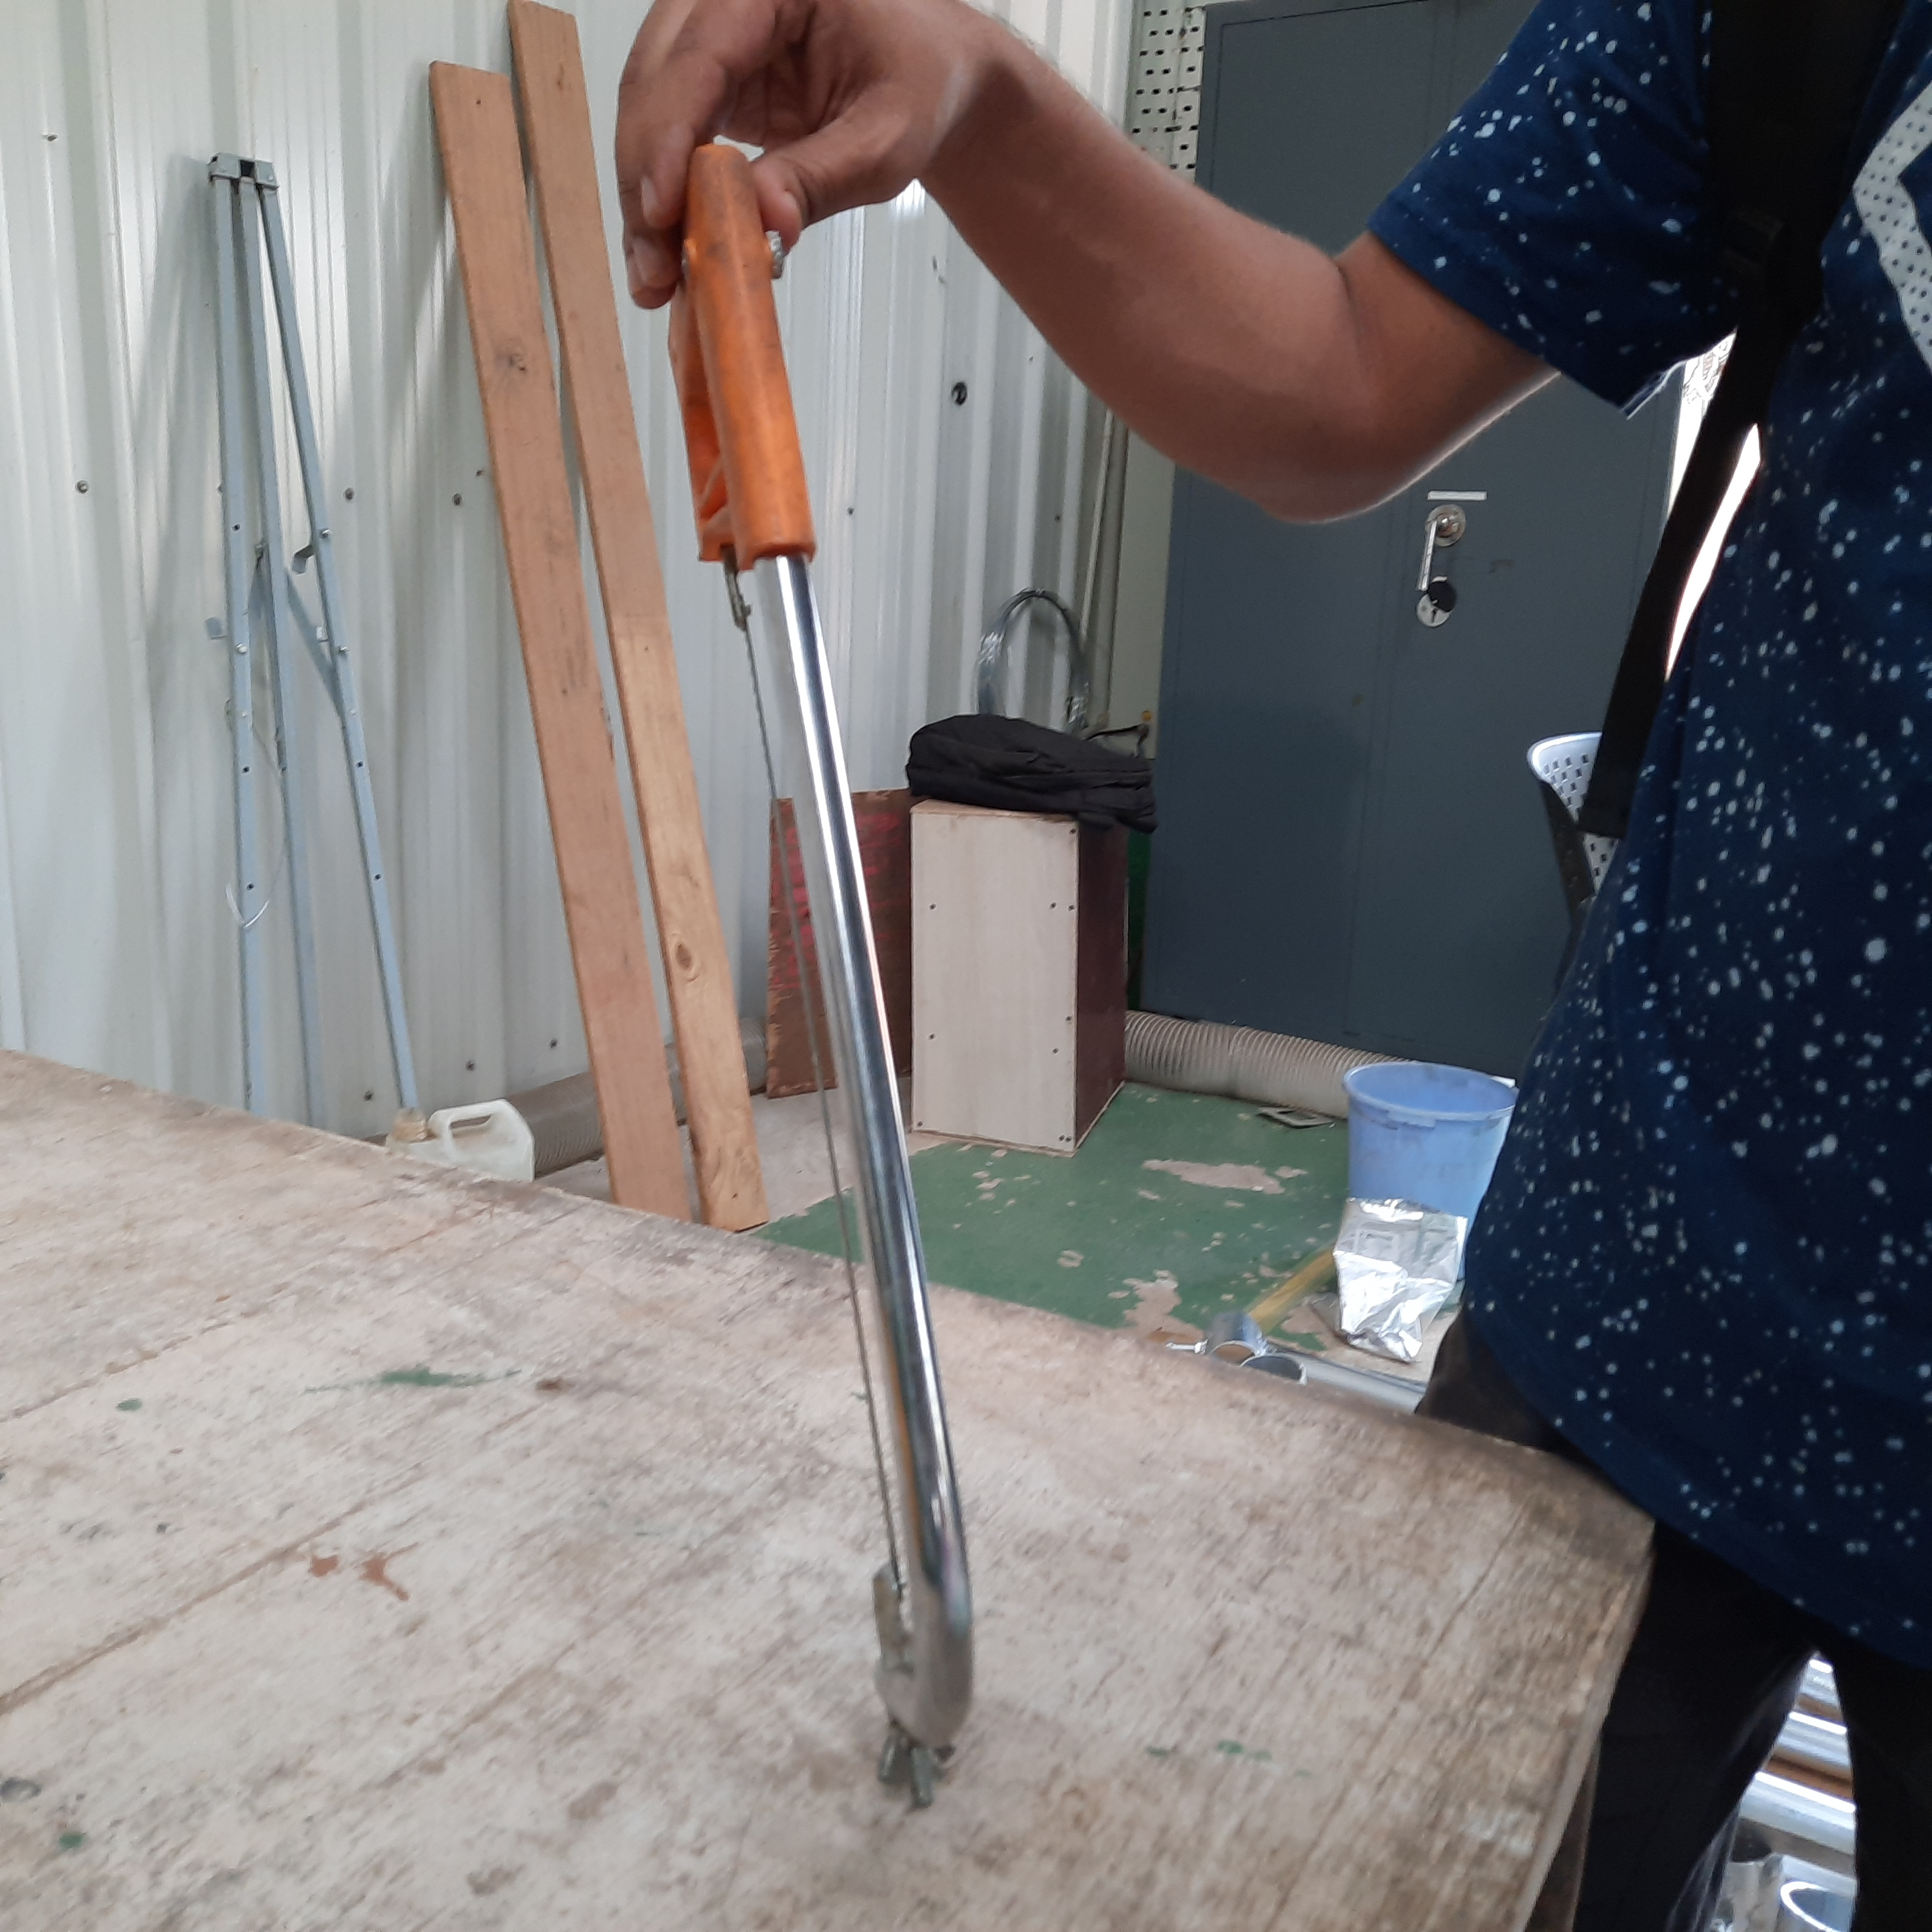Hexaframe: (612, 142, 1051, 1932)
